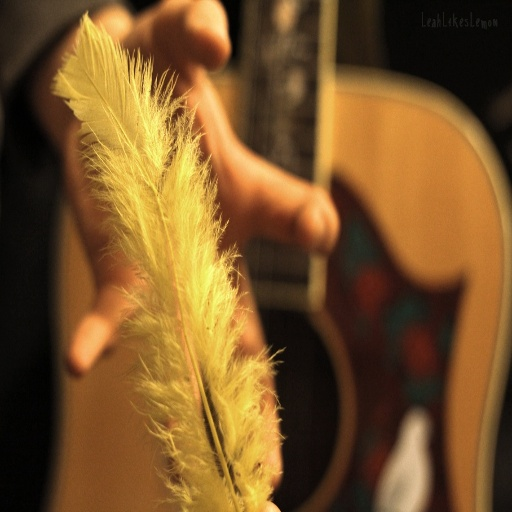hand: (61, 1, 340, 510)
